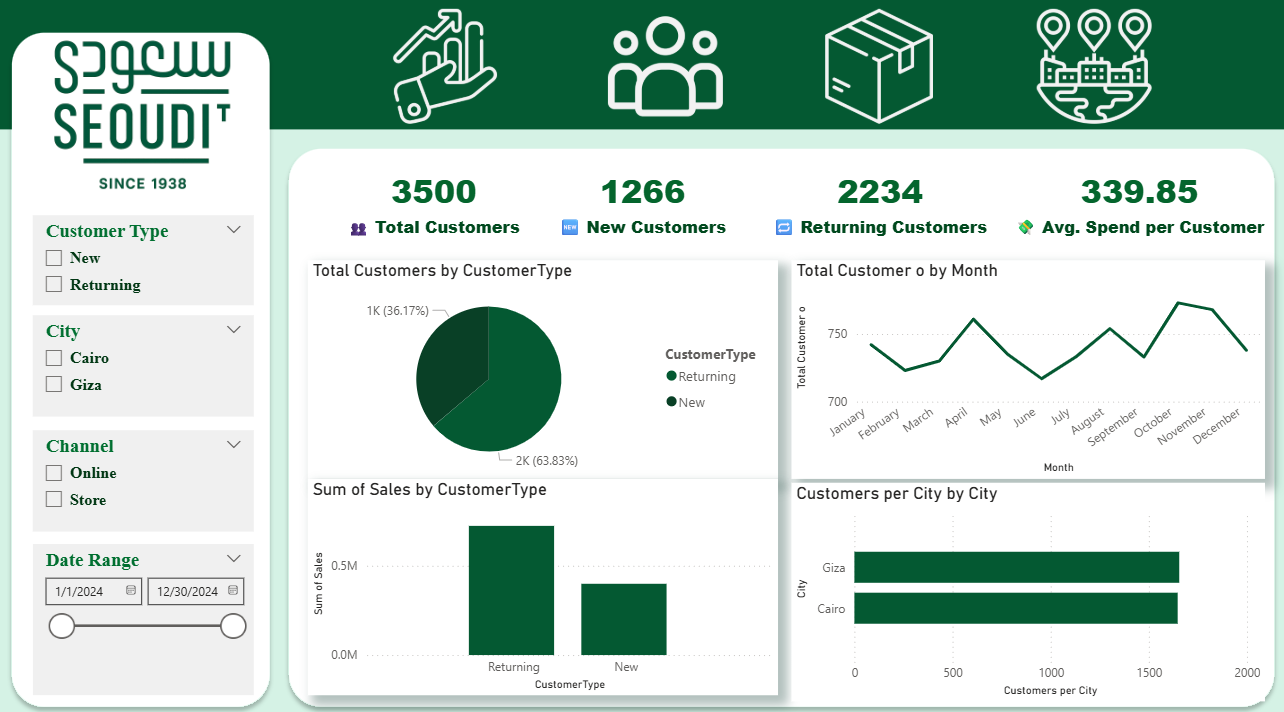

This screenshot's page, from the dashboard's own definition file:
{"tool":"powerbi","page":{"name":"Customer Insights","canvas":[1280,720],"ordinal":2},"visuals":[{"type":"image","box":[385.6,10,126.9,124.4],"z":0},{"type":"image","box":[599.2,10,126.9,124.4],"z":1000},{"type":"image","box":[812.7,10,126.9,124.4],"z":2000},{"type":"image","box":[1026.3,10,126.9,124.4],"z":3000},{"type":"image","box":[32.3,2.5,251.3,250],"z":4000},{"type":"card","fields":{"Values":["Customers.Total Customers"]},"box":[324.9,160.2,216.4,93.3],"z":5000},{"type":"card","fields":{"Values":["Customers.New Customers"]},"box":[541.4,160.2,199,93.3],"z":6000},{"type":"card","fields":{"Values":["Customers.Returning Customers"]},"box":[752.6,160.5,248.8,93.3],"z":7000},{"type":"card","fields":{"Values":["Customers.Avg Spend per Customer"]},"box":[1001.4,160.5,267.5,93.3],"z":8000},{"type":"pieChart","fields":{"Category":["Customers.CustomerType"],"Y":["Customers.Total Customers"]},"box":[323.4,265,467.7,217.7],"z":9000},{"type":"columnChart","fields":{"Category":["Customers.CustomerType"],"Y":["Sum(Orders.Sales)"]},"box":[323.4,482.7,467.7,215.2],"z":10000},{"type":"lineChart","fields":{"Category":["Orders.OrderDate.Variation.Date Hierarchy.Month"],"Y":["Orders.Total Customer o"]},"box":[796.1,265,483.9,217.7],"z":11000},{"type":"barChart","fields":{"Category":["Customers.City"],"Y":["Customers.Customers per City"]},"box":[812.3,482.7,467.7,217.7],"z":12000},{"type":"slicer","fields":{"Values":["Customers.CustomerType"]},"box":[42.3,220.2,241.3,89.6],"z":13000},{"type":"slicer","fields":{"Values":["Customers.City"]},"box":[42.3,322.6,241.3,100.8],"z":14000},{"type":"slicer","fields":{"Values":["Orders.Channel"]},"box":[42.3,436.2,241.3,100.8],"z":15000},{"type":"slicer","fields":{"Values":["Orders.OrderDate"]},"box":[42.3,549.8,241.3,150.5],"z":16000}]}

Visuals, with their boxes in screenshot pixels (x1, y1, x2, y2), scaled from the page's 1280x720 canvas onto the 1284x712 screenshot:
image: (387, 10, 514, 133)
image: (601, 10, 728, 133)
image: (815, 10, 943, 133)
image: (1030, 10, 1157, 133)
image: (32, 2, 284, 250)
card - Customers.Total Customers: (326, 158, 543, 251)
card - Customers.New Customers: (543, 158, 743, 251)
card - Customers.Returning Customers: (755, 159, 1005, 251)
card - Customers.Avg Spend per Customer: (1005, 159, 1273, 251)
pieChart - Customers.CustomerType x Customers.Total Customers: (324, 262, 794, 477)
columnChart - Customers.CustomerType x Sum(Orders.Sales): (324, 477, 794, 690)
lineChart - Orders.OrderDate.Variation.Date Hierarchy.Month x Orders.Total Customer o: (799, 262, 1283, 477)
barChart - Customers.City x Customers.Customers per City: (815, 477, 1283, 693)
slicer - Customers.CustomerType: (42, 218, 284, 306)
slicer - Customers.City: (42, 319, 284, 419)
slicer - Orders.Channel: (42, 431, 284, 531)
slicer - Orders.OrderDate: (42, 544, 284, 693)
